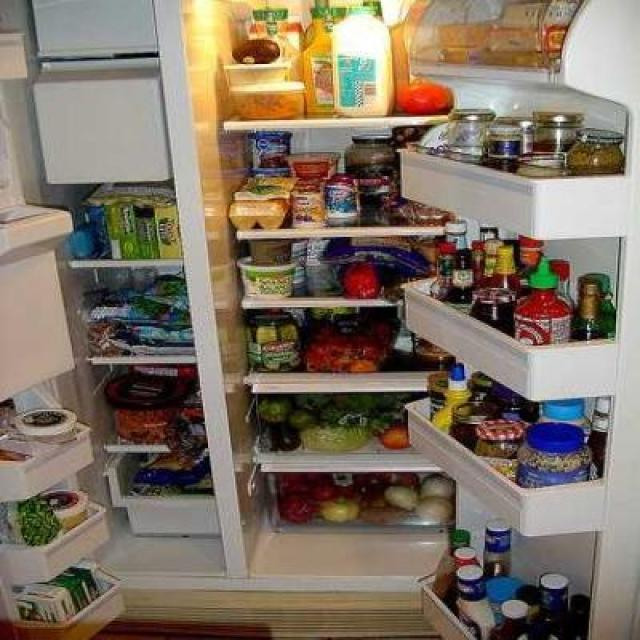refrigerator: (17, 0, 640, 585)
